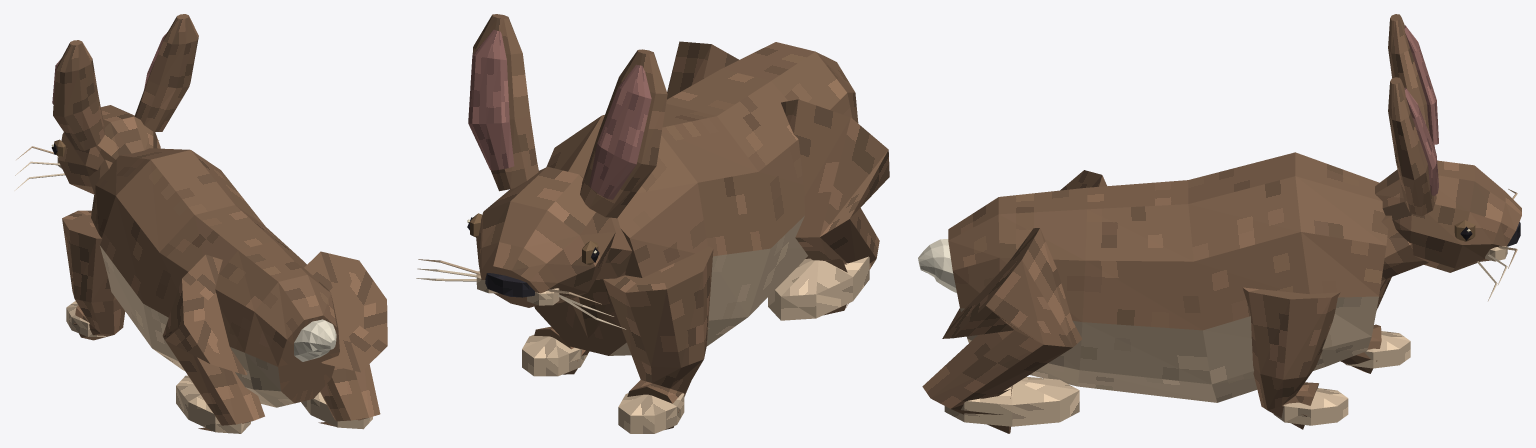
File: mon_wild_rabbit.glb
The picture shows the model from 3 angles, left to right: view 1: azimuth 30°, elevation 25°; view 2: azimuth 150°, elevation 25°; view 3: azimuth 270°, elevation 25°; orthographic projection. The views are drawn at different scales.
Parts seen in each view (by area): view 1: closed_body; view 2: closed_body; view 3: closed_body.
Boxes of the visible parts, box(x1,y1,x2,y2) form: closed_body: box(14, 14, 387, 433); closed_body: box(416, 14, 889, 433); closed_body: box(918, 14, 1521, 433).
Size of the model in its own units: 0.2338 by 0.3694 by 0.5675.
Materials: 1 (1 with a texture image).
